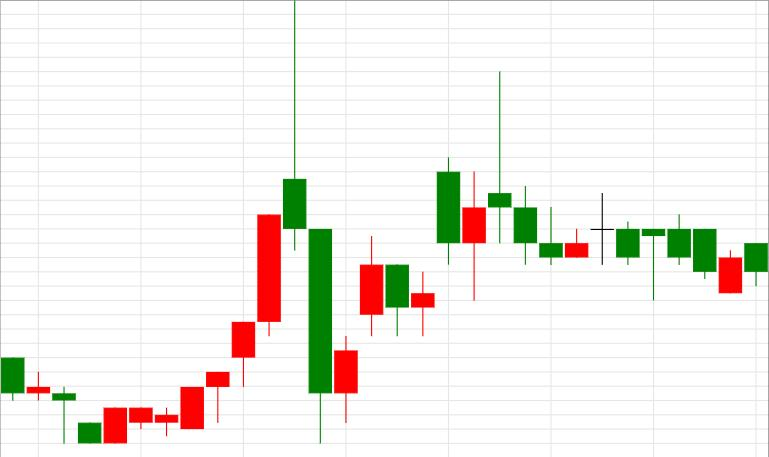bullish_engulfing_rise: (1, 358, 128, 443)
evening_star_fall: (334, 70, 537, 423)
shooting_star_fall: (104, 0, 307, 444)
